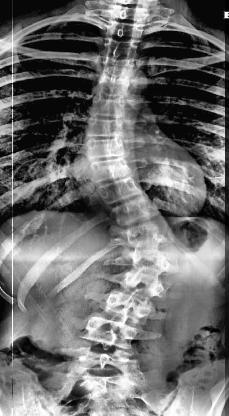Vertebrae: (70, 342, 138, 380), (98, 289, 158, 325), (80, 315, 140, 349), (118, 266, 174, 302), (108, 193, 160, 229), (128, 244, 182, 278), (118, 220, 174, 250), (96, 175, 142, 205), (87, 157, 133, 183), (85, 115, 127, 141), (89, 94, 128, 120), (86, 136, 128, 160), (94, 72, 132, 98), (106, 3, 150, 24), (102, 36, 140, 58), (105, 20, 146, 40), (99, 54, 136, 76)
